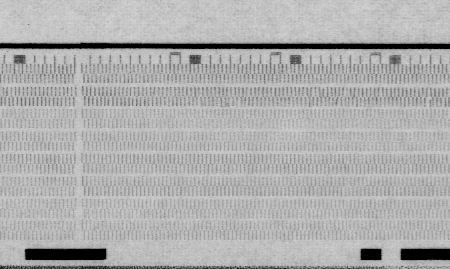Oblique printing: (423, 97, 435, 110)
